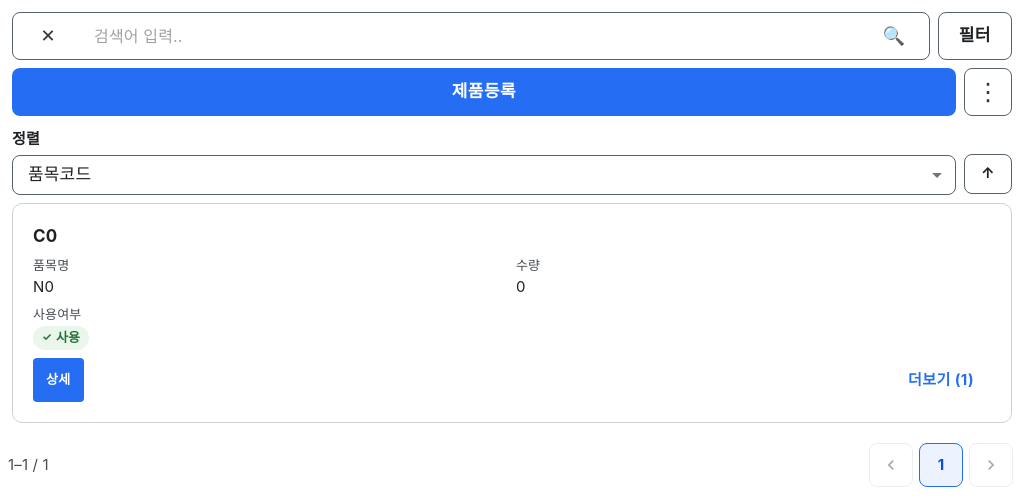
Test: MjGrid mobile layout › secondary actions live in the ⋮ menu; primary add button stays visible
expect the text "C0" is shown: met, box [33,226,57,246]
expect the button "제품등록" is shown: met, box [12,68,956,116]
Click the button named "메뉴" at (988, 92), box [964,68,1012,116]
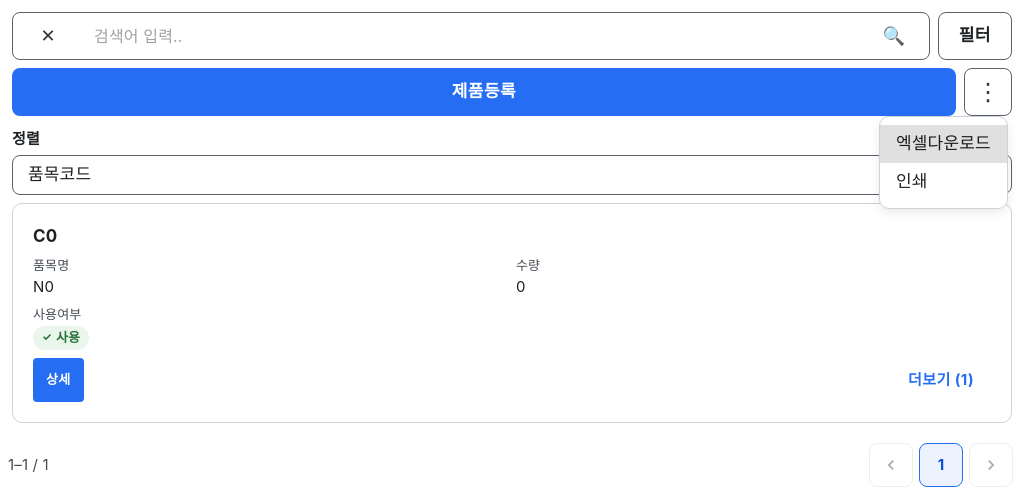
expect the menu item "엑셀다운로드" is shown: met, box [880,125,1007,162]
expect the menu item "인쇄" is shown: met, box [896,170,928,190]
